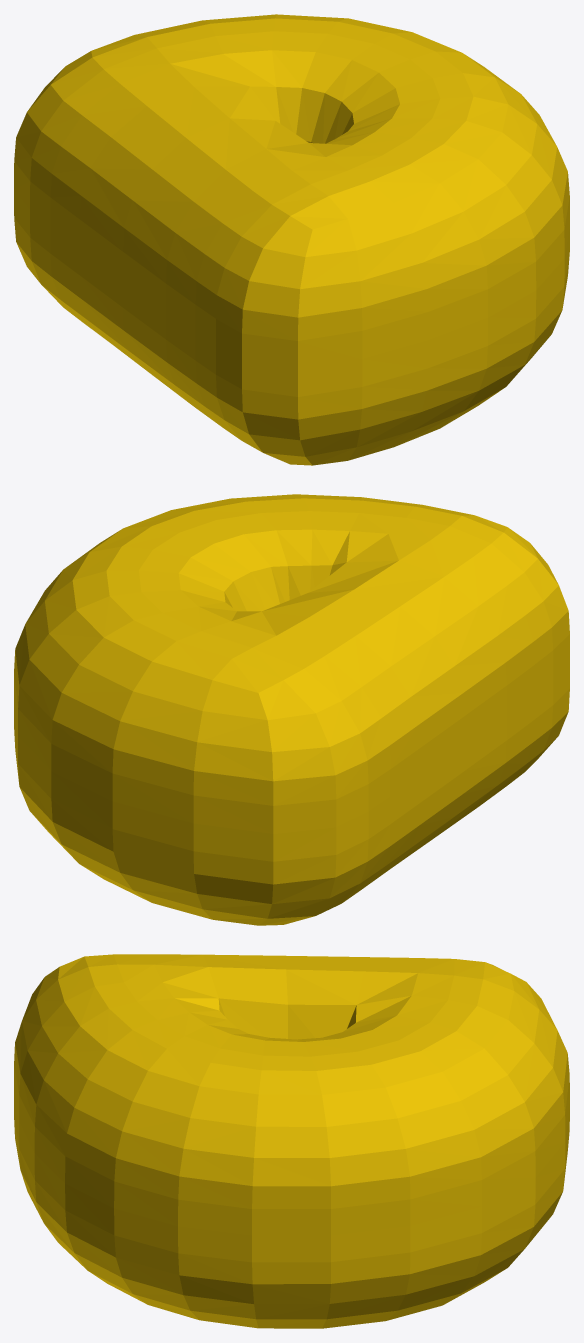
The picture shows the model from 3 angles, top to bottom: view 1: azimuth 30°, elevation 25°; view 2: azimuth 150°, elevation 25°; view 3: azimuth 270°, elevation 25°; orthographic projection. The views are drawn at different scales.
Bounding box in the file's own units: 0.7881 × 0.4934 × 0.9693.
